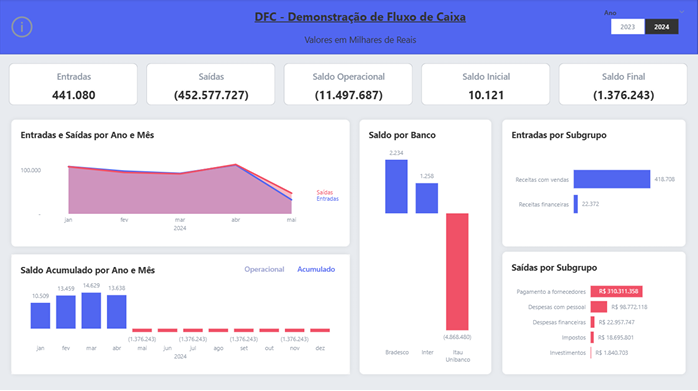

Layout of this report page (visuals, bound fields, positions):
{"tool":"powerbi","page":{"name":"DFC","canvas":[1280,720],"ordinal":0},"visuals":[{"type":"clusteredColumnChart","fields":{"Category":["dCalendario.Ano","dCalendario.MesAbrev"],"Y":["Medidas.Saldo Final"]},"box":[21.6,468.2,620.2,220],"z":0,"group":"g1"},{"type":"cardVisual","fields":{"Data":["Medidas.Entradas","Medidas.Saídas","Medidas.Saldo Operacional","Medidas.Saldo Inicial","Medidas.Saldo Final"]},"box":[1.4,101,1276.8,109.6],"z":0},{"type":"areaChart","fields":{"Category":["dCalendario.Ano","dCalendario.MesAbrev"],"Y":["Medidas.Entradas","Medidas.Saídas ABS"]},"box":[21.6,220.7,620.2,232.5],"z":1000},{"type":"clusteredColumnChart","fields":{"Y":["Medidas.Saldo Final"],"Category":["dBancos.Banco"]},"box":[660.2,220.7,241.8,467.5],"z":2000},{"type":"group","id":"g1","title":"Grupo 1","box":[21.6,468.2,620.2,220],"z":3000},{"type":"bookmarkNavigator","box":[427.1,468.9,213.5,50.5],"z":4000},{"type":"clusteredBarChart","fields":{"Category":["dContas.Subgrupo","dContas.Conta"],"Y":["Medidas.Entradas"]},"box":[921.7,220.7,336.4,232.5],"z":5000},{"type":"clusteredBarChart","fields":{"Category":["dContas.Subgrupo","dContas.Conta"],"Y":["Medidas.Saídas ABS"]},"box":[921.9,463.1,336.2,225.1],"z":6000},{"type":"actionButton","box":[1.4,0,80.8,101],"z":7000},{"type":"shape","box":[0,0,1279.7,101],"z":8000},{"type":"slicer","fields":{"Values":["dCalendario.Ano"]},"box":[1085,0,194.8,82.2],"z":9000},{"type":"textbox","box":[442.9,0,437.2,101],"z":10000},{"type":"actionButton","box":[0,0,82.2,101],"z":11000}]}

Visuals, with their boxes in screenshot pixels (x1, y1, x2, y2), scaled from the page's 1280x720 canvas onto the 698x391 screenshot:
clusteredColumnChart - dCalendario.Ano x dCalendario.MesAbrev: BBox(12, 254, 350, 374)
cardVisual - Medidas.Entradas x Medidas.Saídas: BBox(1, 55, 697, 114)
areaChart - dCalendario.Ano x dCalendario.MesAbrev: BBox(12, 120, 350, 246)
clusteredColumnChart - Medidas.Saldo Final x dBancos.Banco: BBox(360, 120, 492, 374)
"Grupo 1" group: BBox(12, 254, 350, 374)
bookmarkNavigator: BBox(233, 255, 349, 282)
clusteredBarChart - dContas.Subgrupo x dContas.Conta: BBox(503, 120, 686, 246)
clusteredBarChart - dContas.Subgrupo x dContas.Conta: BBox(503, 251, 686, 374)
actionButton: BBox(1, 0, 45, 55)
shape: BBox(0, 0, 697, 55)
slicer - dCalendario.Ano: BBox(592, 0, 697, 45)
textbox: BBox(242, 0, 480, 55)
actionButton: BBox(0, 0, 45, 55)
